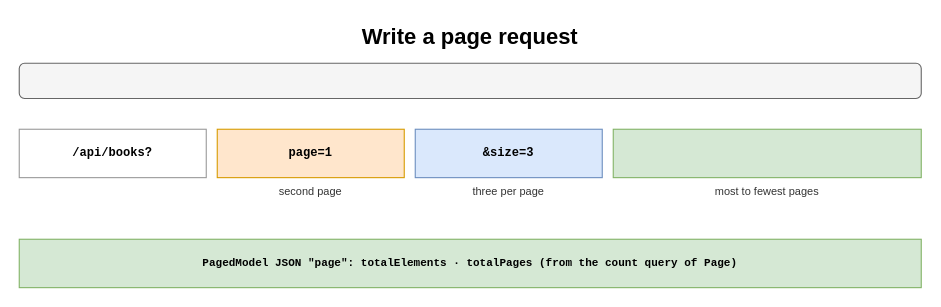
The diagram is 941 pixels wide and 307 high, and some of its shapes have lost their labels. Each missing label, with the centre of its shape:
"&sort=pages,desc" goes at (766,153).
"Page numbers start at 0" goes at (469,80).
